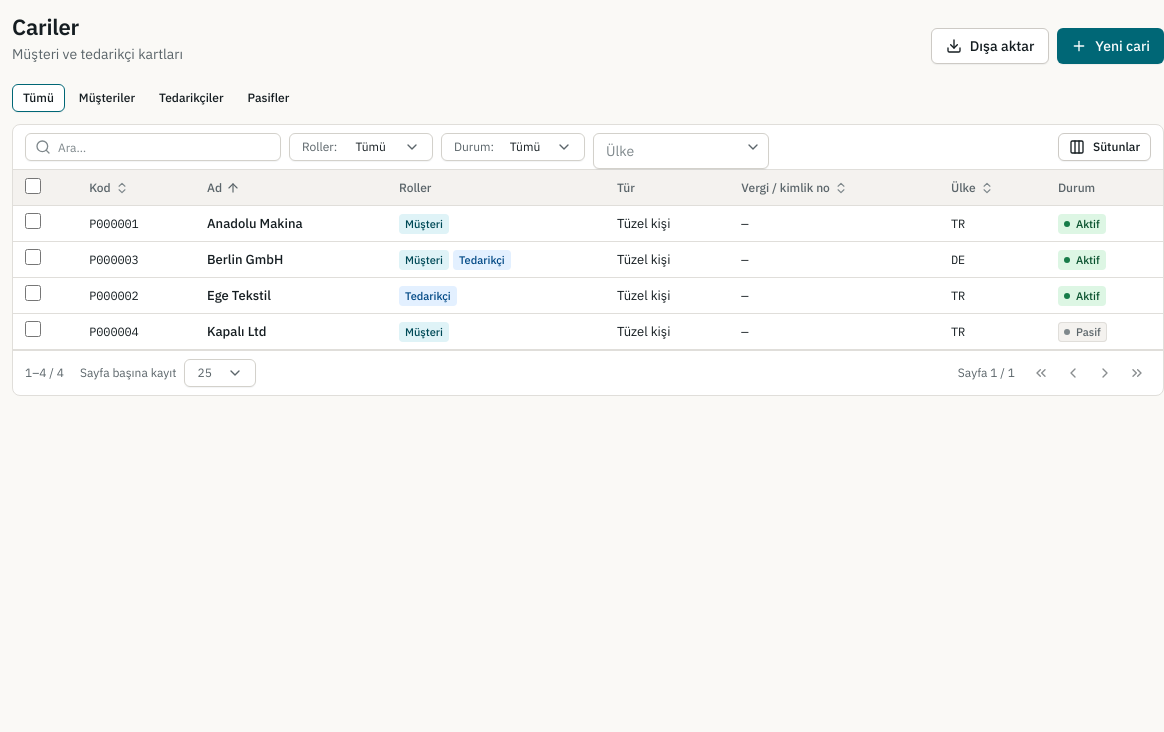
it: PartyListPage › keeps the selection after a partial bulk failure and retries only the failed party
The width and height of the screenshot is (1164, 732).
Expected: the table named "Cari listesi" is shown, [13,170,1163,350]
Expected: the link "Anadolu Makina" is shown, [207,214,303,232]
Click the checkbox named "Satırı seç" next to "P000001".
click(33, 221)  # box [25,213,41,229]
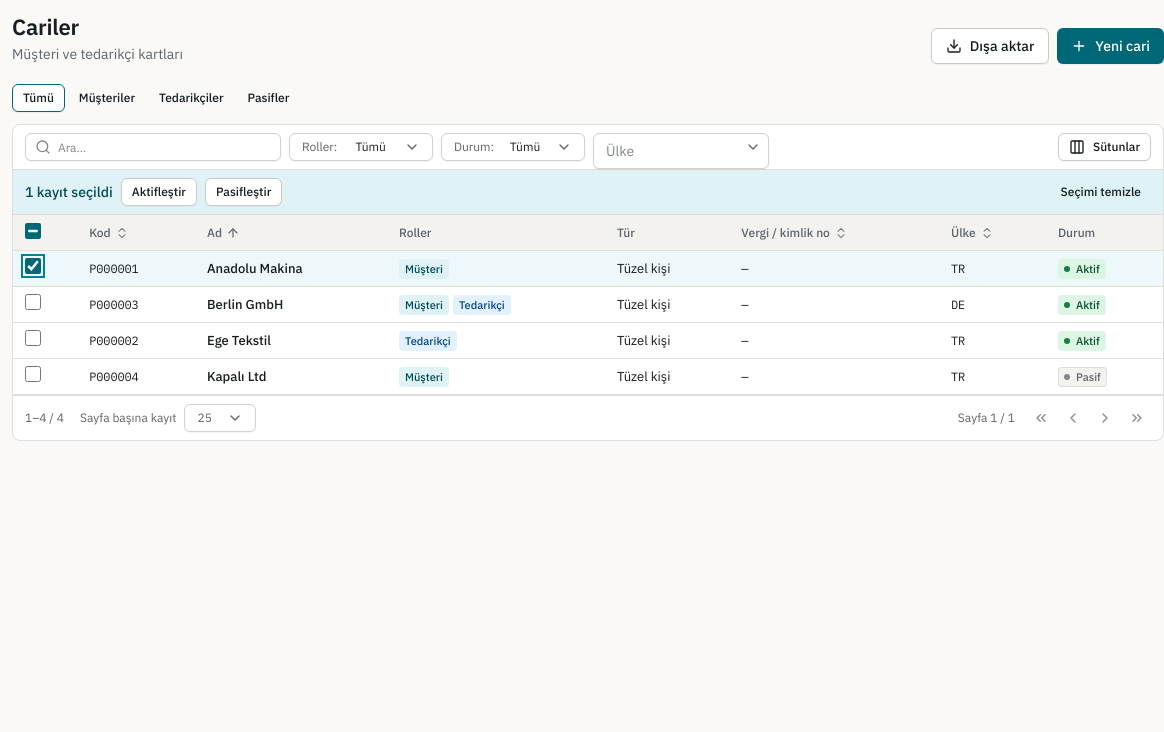
Click the checkbox named "Satırı seç" next to "P000002".
click(33, 338)  # box [25,330,41,346]
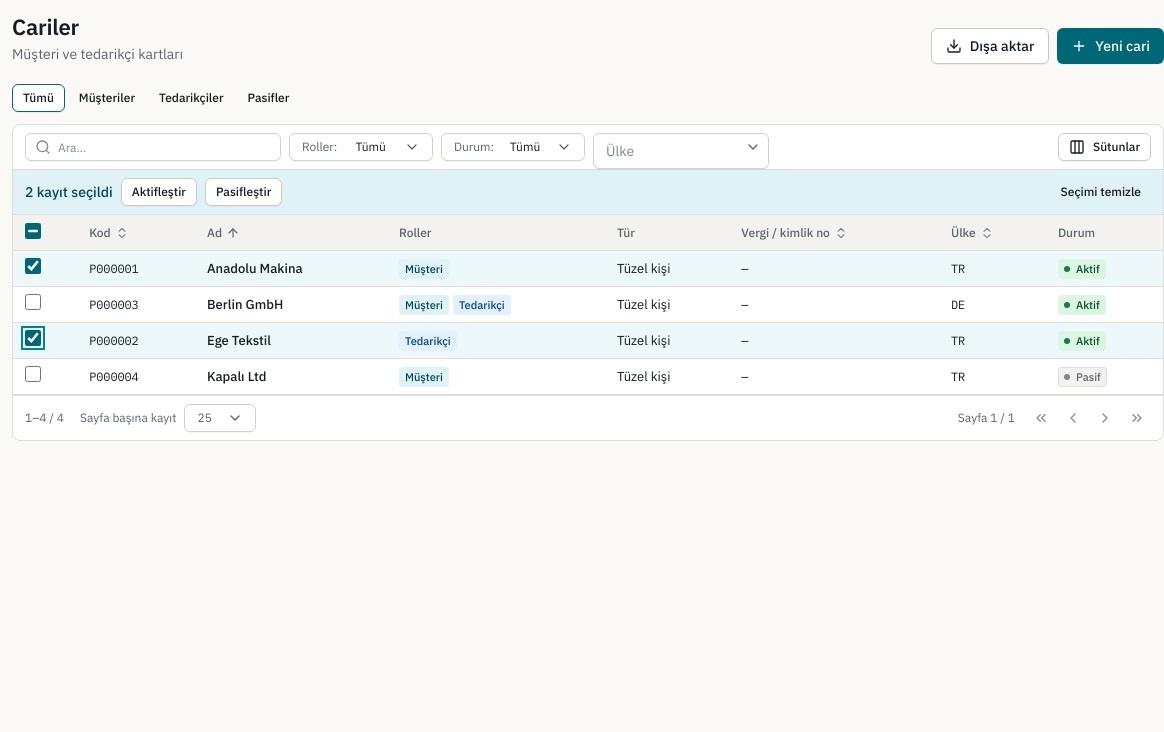
Click the button "Pasifleştir".
click(244, 192)  # box [205,178,282,206]
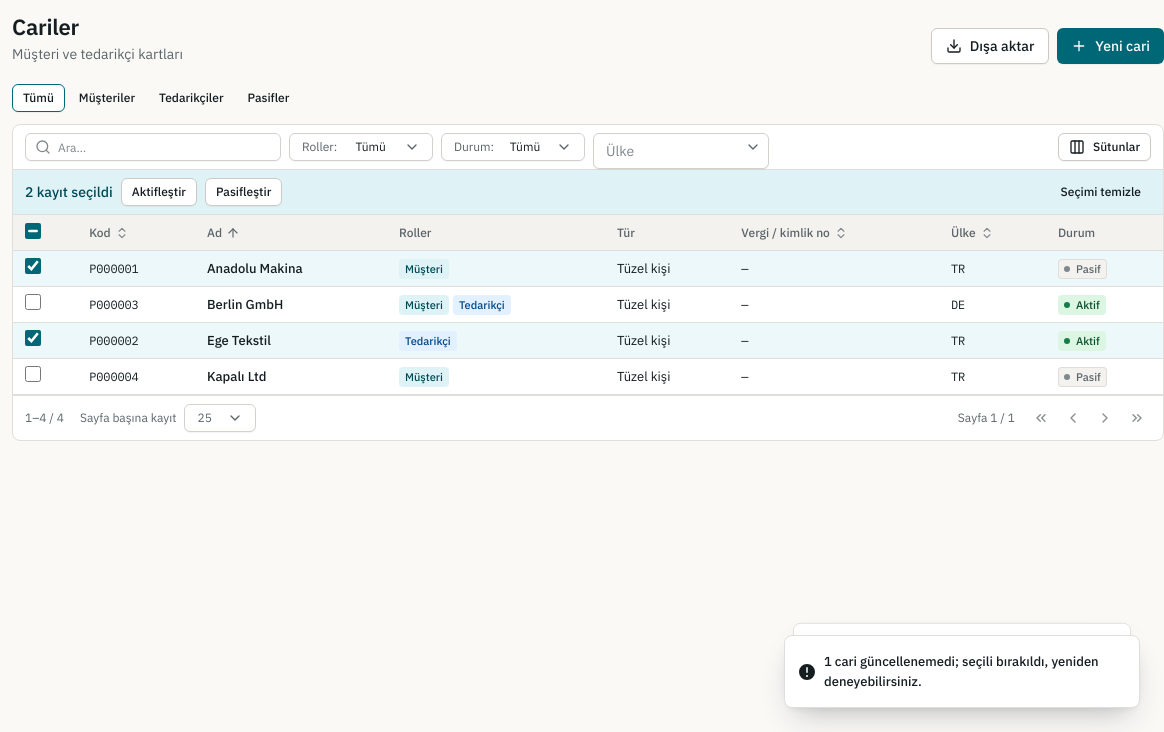
Now the text "2 kayıt seçildi" is shown, box [25,182,113,202]
Now the text "1 cari güncellenemedi" is shown, box [824,653,1099,690]
Now the text "Pasif" is shown, box [1058,258,1107,278]
Click the button "Pasifleştir".
click(244, 192)  # box [205,178,282,206]
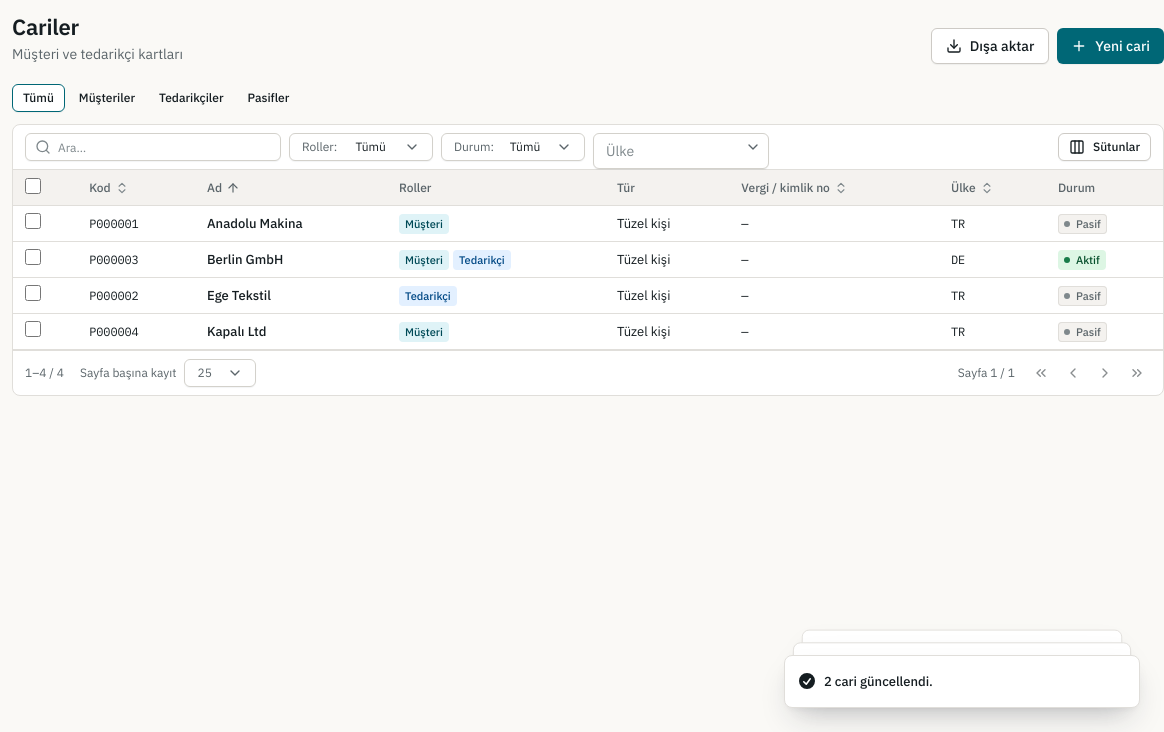
Now the text "2 kayıt seçildi" is gone
